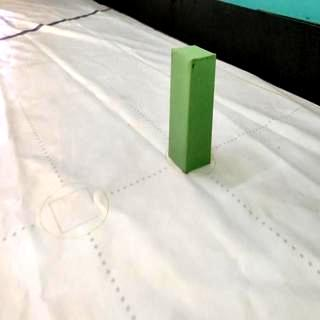greenbox: (169, 45, 215, 175)
